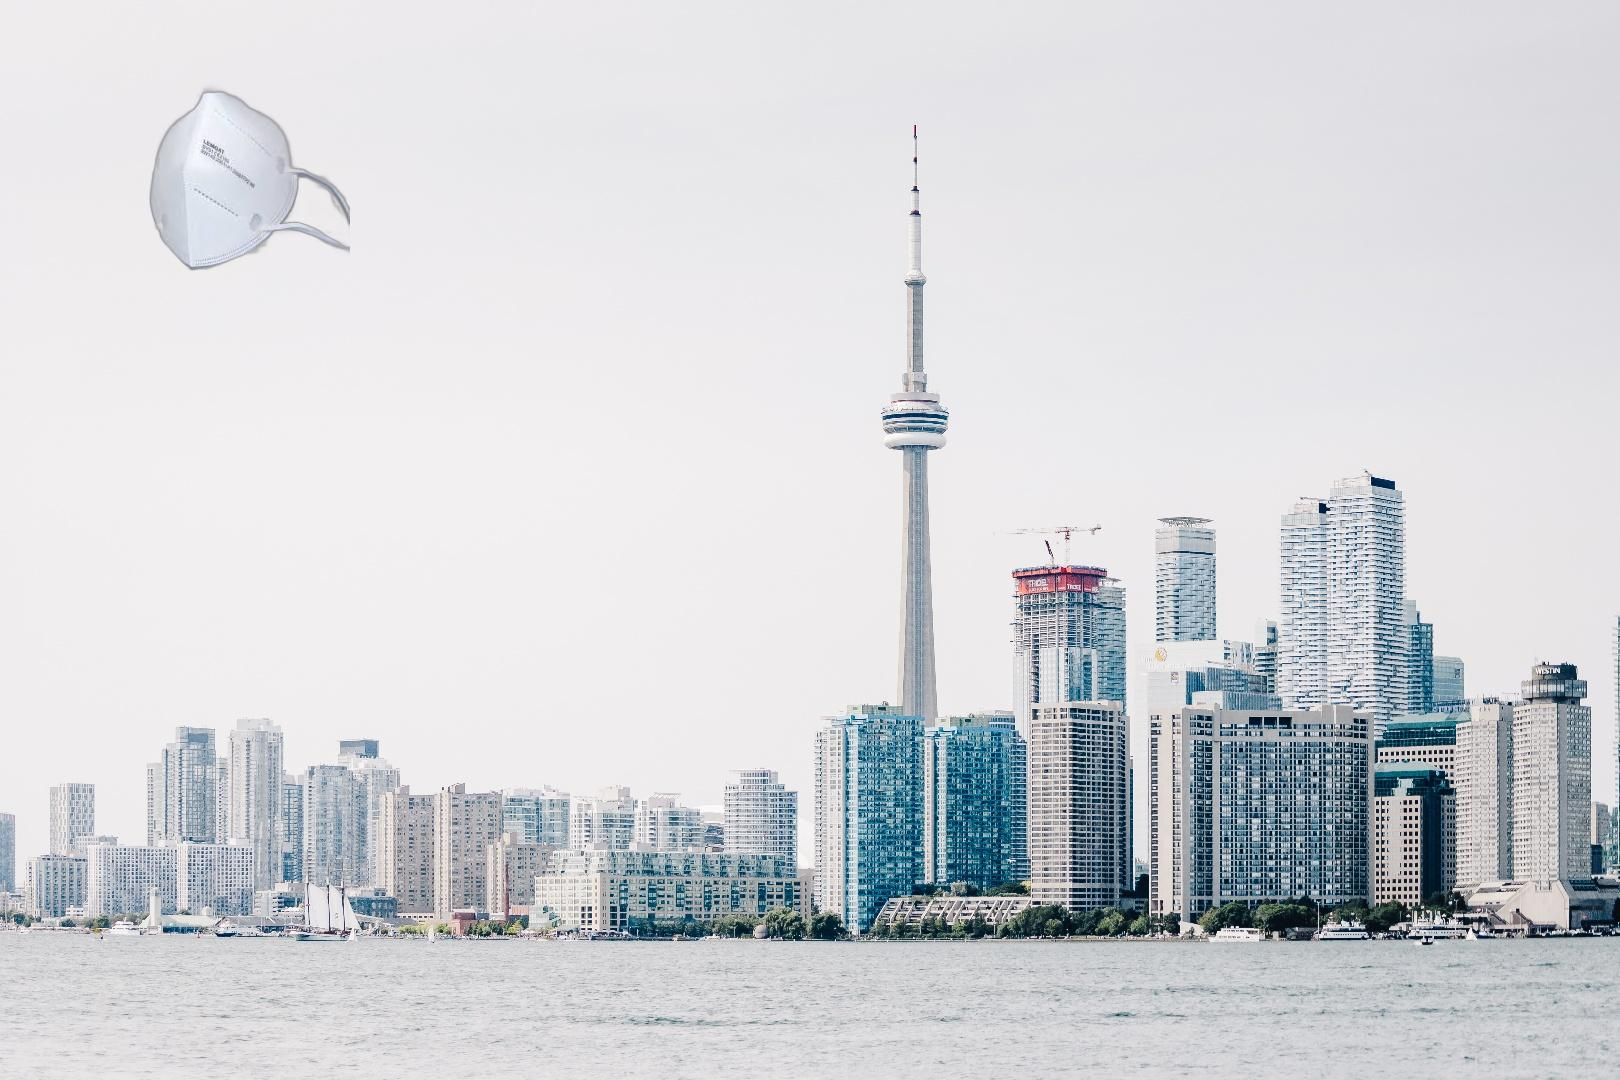trash: (147, 80, 350, 272)
